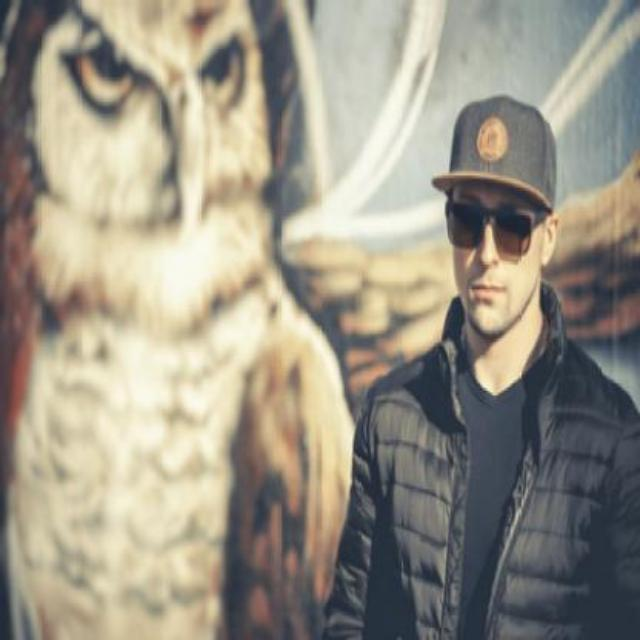sunglasses: (445, 198, 549, 254)
